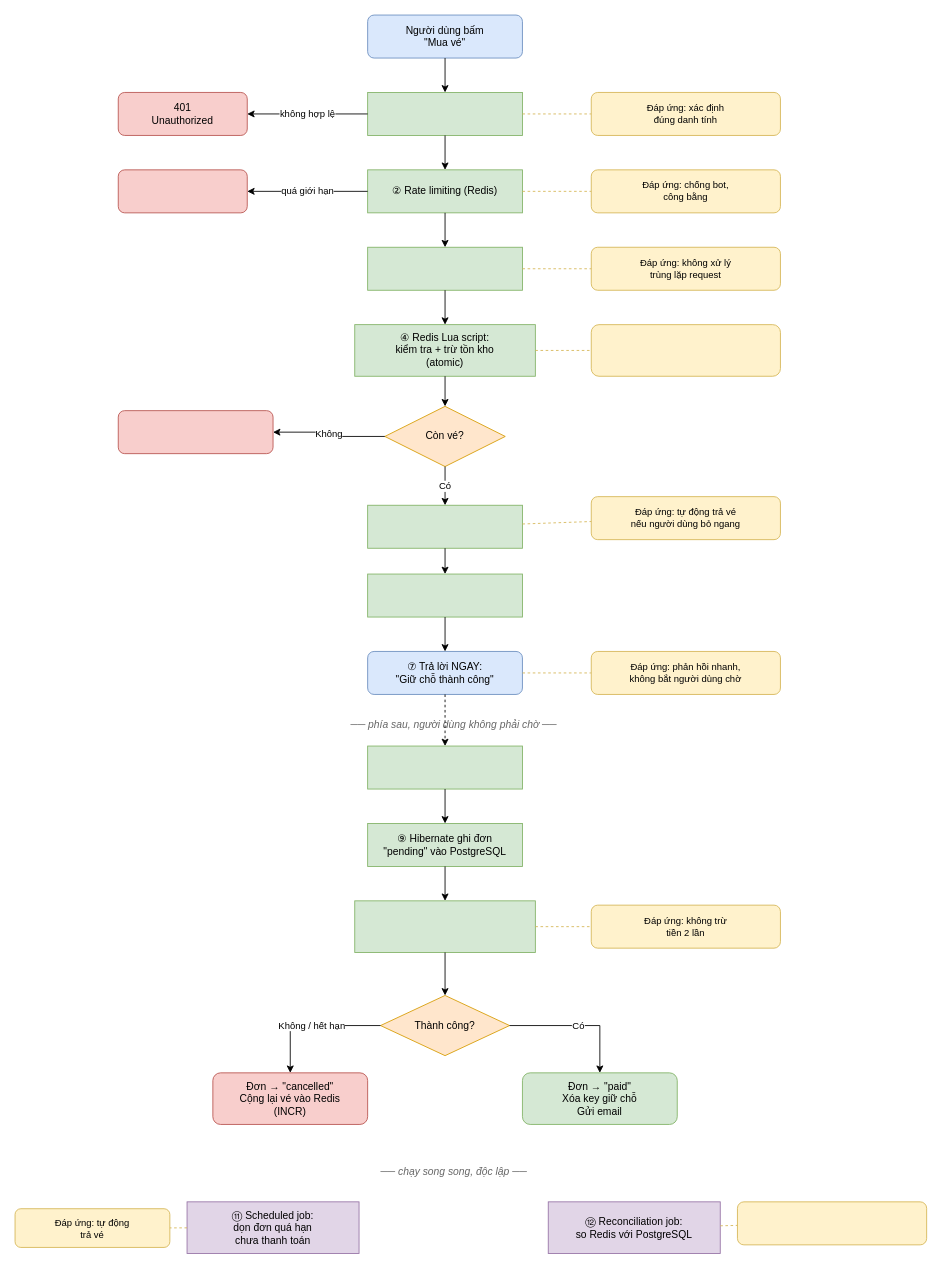
Some shapes in this 942 by 1269 pixel diagram are drawn without their labels. Here are the shapes that lost their labels. From the top down, the centre of each, then its label:
[444,113]: ① Xác thực JWT
[182,191]: 429 Too Many Requests
[444,268]: ③ Kiểm tra idempotency key
[685,350]: Đáp ứng: không bán quá số vé (no overselling), chống race condition
[195,432]: Trả lời "Hết vé" (KẾT THÚC)
[444,526]: ⑤ Giữ chỗ có TTL (10 phút)
[444,595]: ⑥ Gửi message vào RabbitMQ (order-queue)
[444,767]: ⑧ Worker (module order) nhận message
[444,926]: ⑩ Thanh toán (kiểm tra idempotency trước khi charge)
[832,1223]: Đáp ứng: dữ liệu tồn kho và đơn hàng luôn khớp nhau
